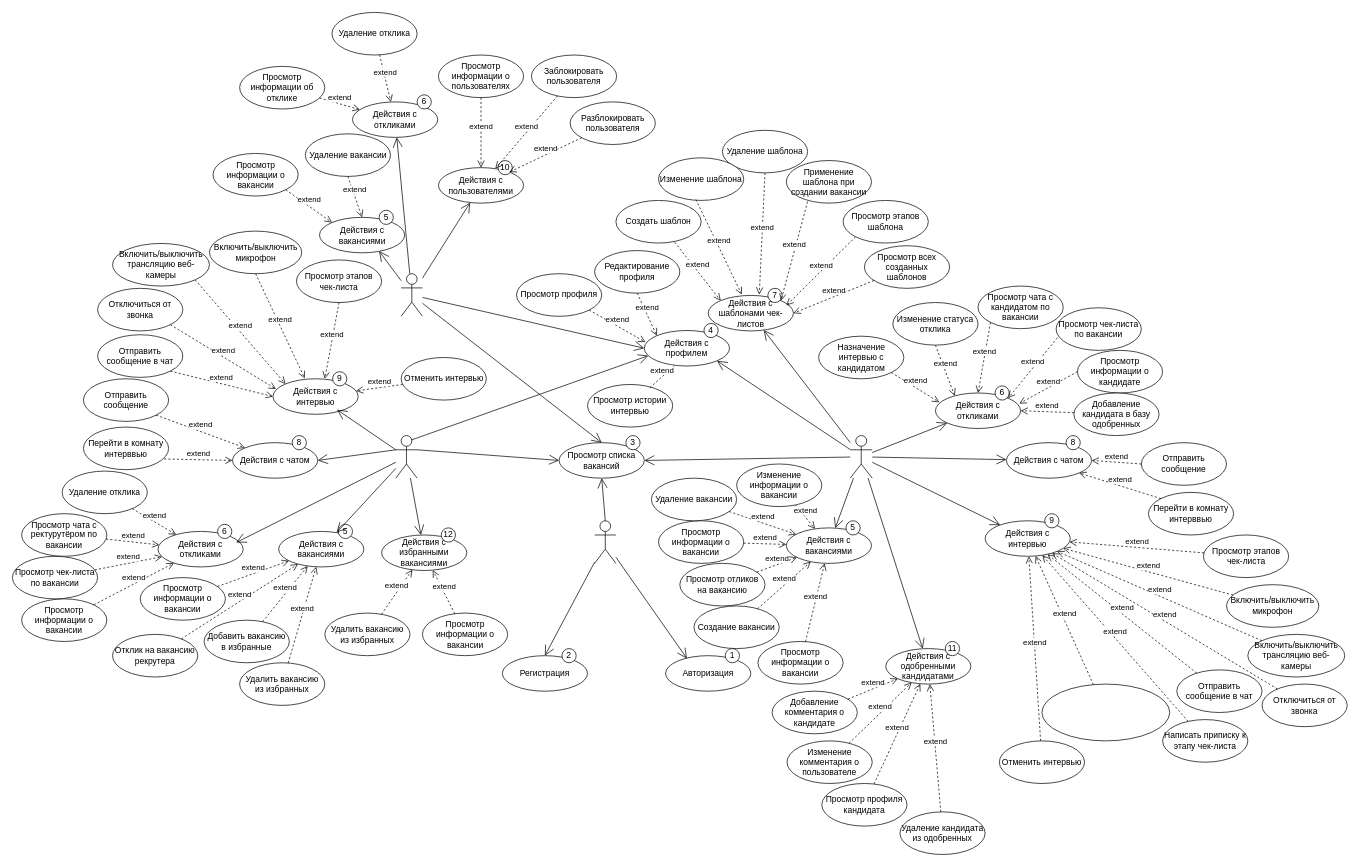
The diagram is 1360 pixels wide and 867 high, and some of its shapes have lost their labels. Each missing label, with the centre of its shape:
Администратор: point 411,294
Включить/выключить отображение приписок к этапам чек-листа для кандидата: point 1105,712
Гость: point 605,541
Кандидат: point 406,456
Рекрутер: point 861,456
